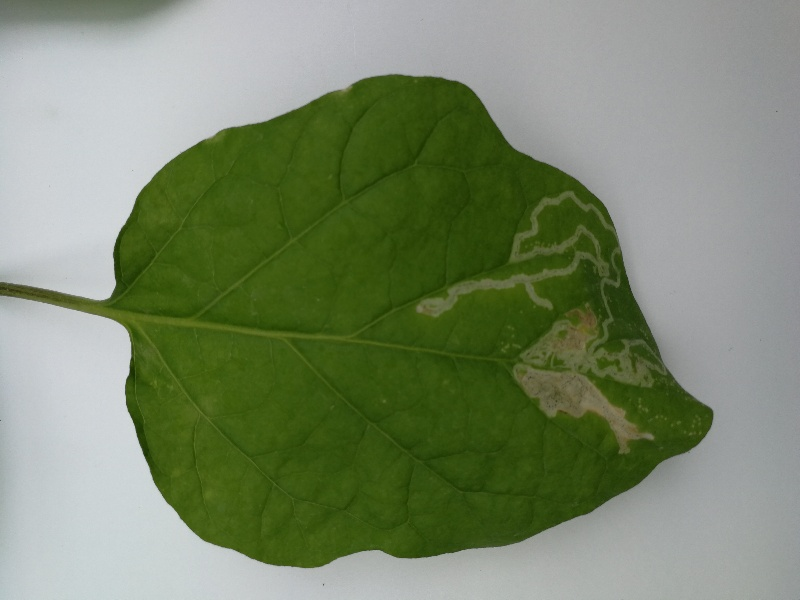leafminer: (414, 188, 671, 453)
